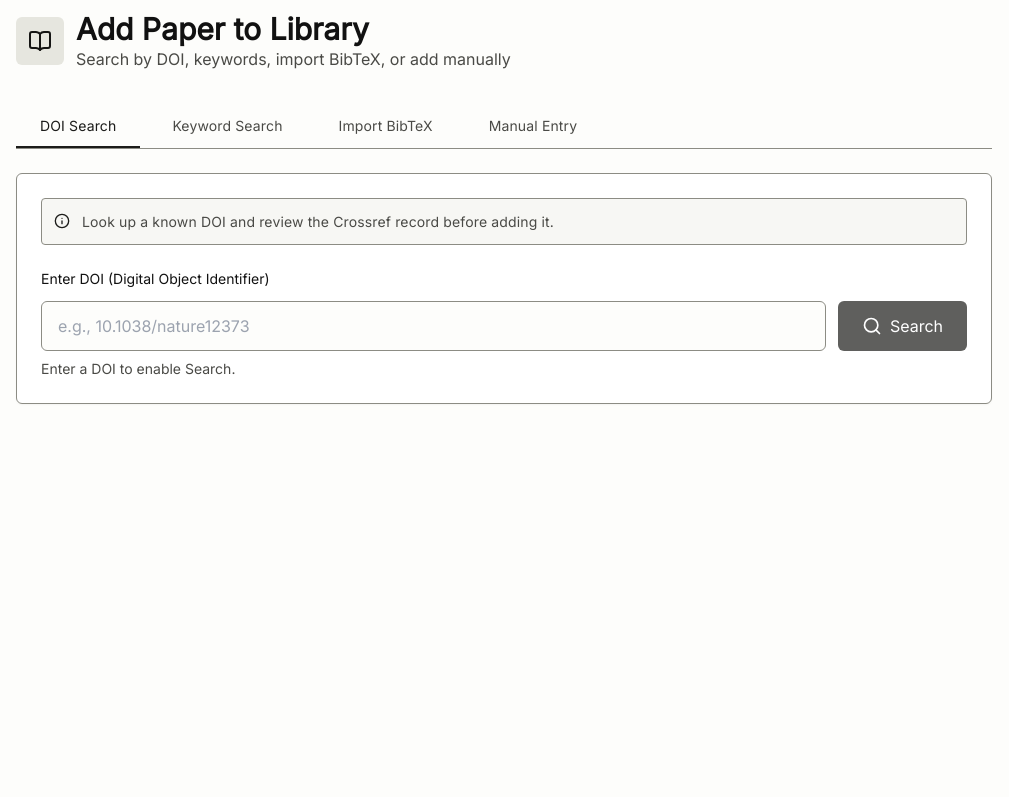
AddPaperView Component › Tab Navigation › should switch between tabs
Click the tab "Keyword Search": (228, 126) [148, 103, 307, 148]
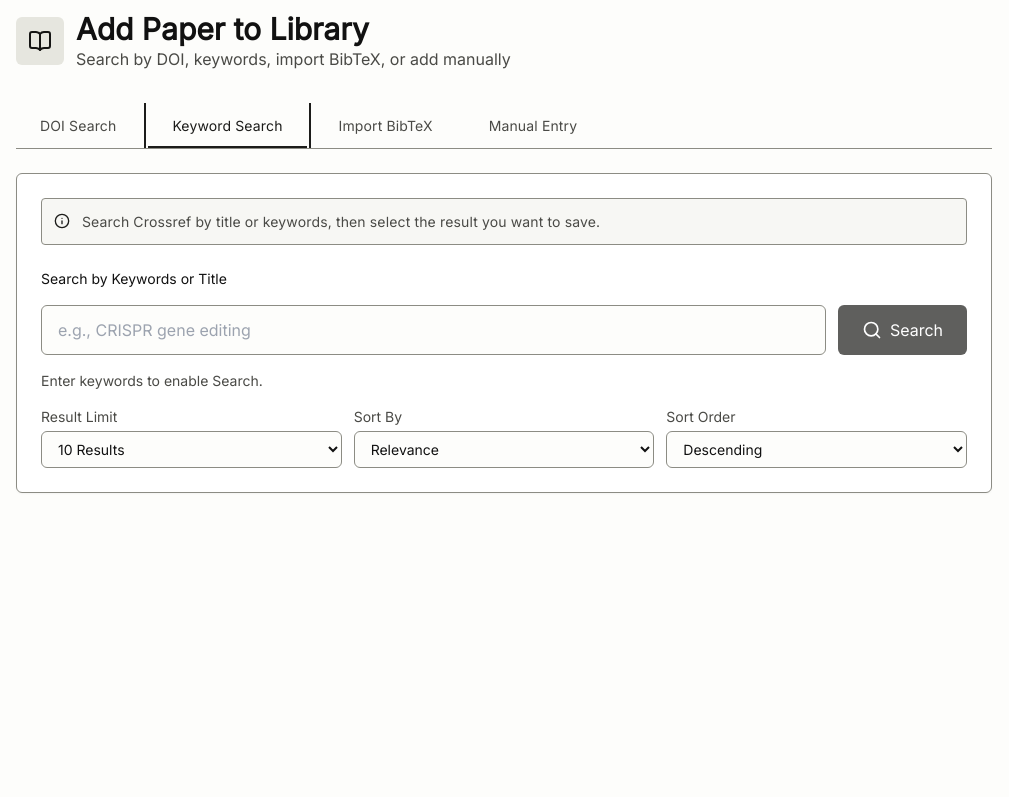
Now the field with placeholder "e.g., CRISPR gene editing" is shown, box [41, 305, 826, 355]
Click the tab "Manual Entry": (533, 126) [465, 103, 601, 148]
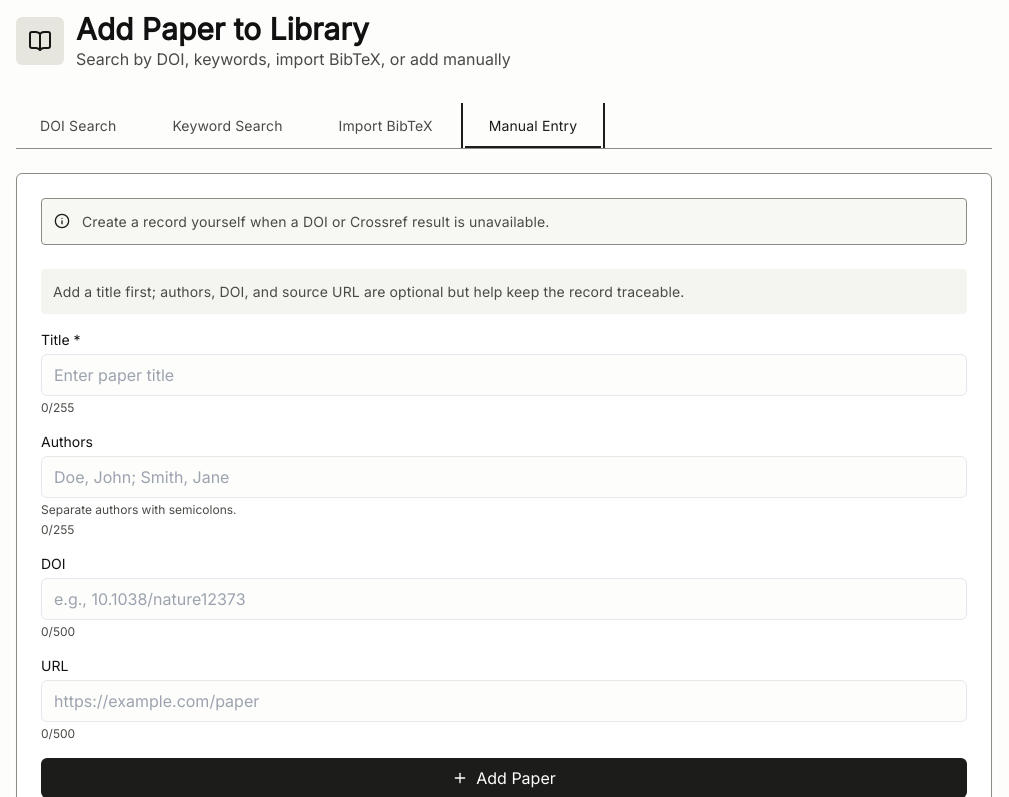
Now the field with placeholder "Enter paper title" is shown, box [41, 354, 967, 396]
